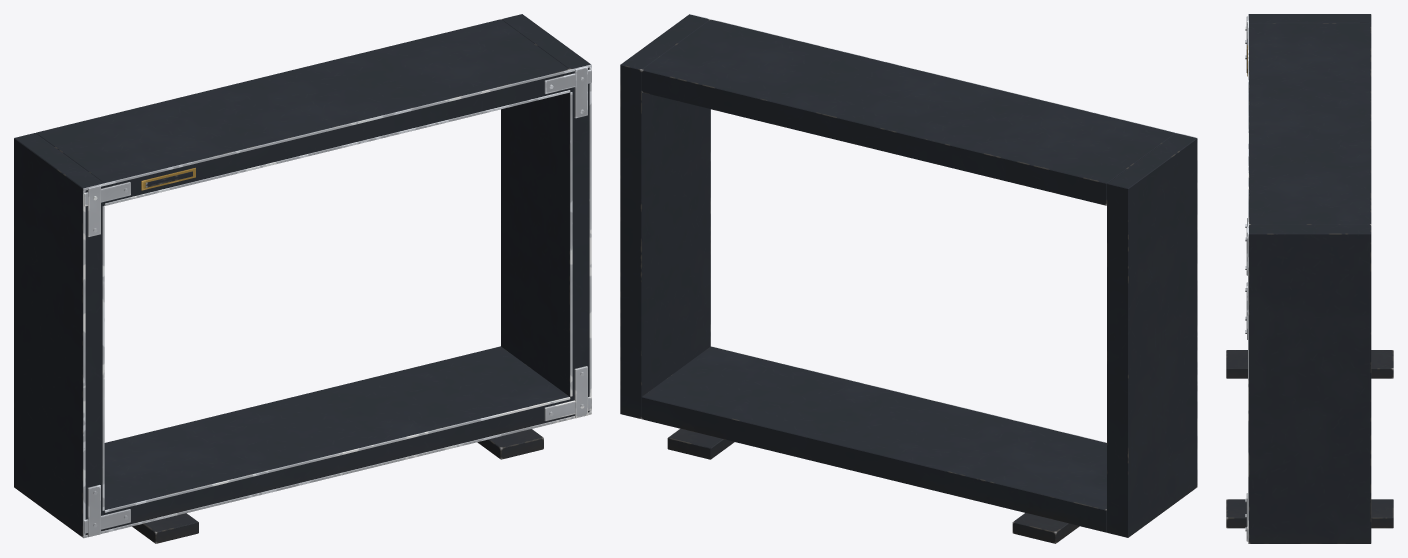
File: context_frame.glb
The picture shows the model from 3 angles, left to right: view 1: azimuth 30°, elevation 25°; view 2: azimuth 150°, elevation 25°; view 3: azimuth 270°, elevation 25°; orthographic projection. The views are drawn at different scales.
Visible parts, largest first — view 1: Batch_0; view 2: Batch_0; view 3: Batch_0.
Boxes of the visible parts, x1,y1,x2,y2 form: Batch_0: [14, 14, 591, 543]; Batch_0: [620, 14, 1197, 543]; Batch_0: [1226, 14, 1393, 543].
Bounding box in the file's own units: 2.8 × 1.9 × 0.9.
Materials: 1 (1 with a texture image).
